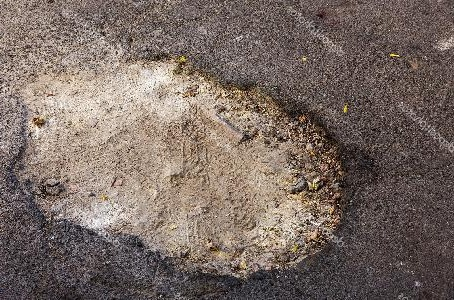pothole: (0, 40, 380, 281)
